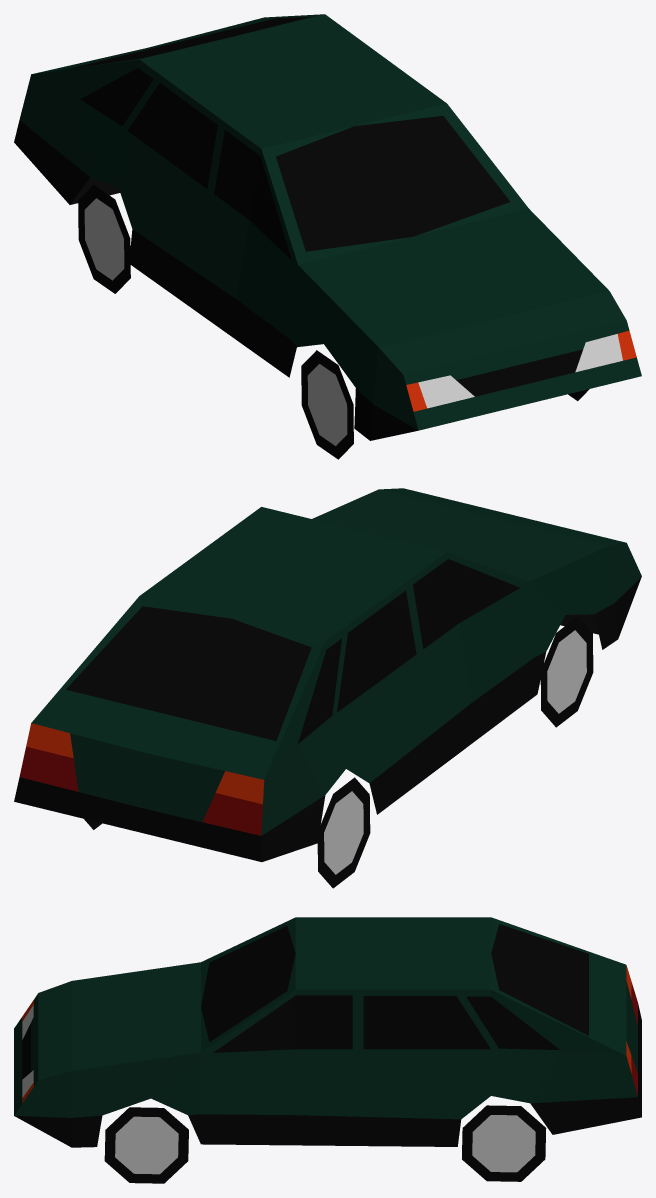
File: polonez.obj
3 renders of one model, top to bottom at view 1: azimuth 30°, elevation 25°; view 2: azimuth 150°, elevation 25°; view 3: azimuth 270°, elevation 25°, orthographic. The views are drawn at different scales.
Visible parts, largest first — view 1: Cube; view 2: Cube; view 3: Cube.
Boxes of the visible parts, box(x1,y1,x2,y2) form: Cube: box(14, 14, 641, 459); Cube: box(14, 488, 641, 888); Cube: box(14, 917, 641, 1183).
Bounding box in the file's own units: 1.61 × 1.42 × 4.4.
